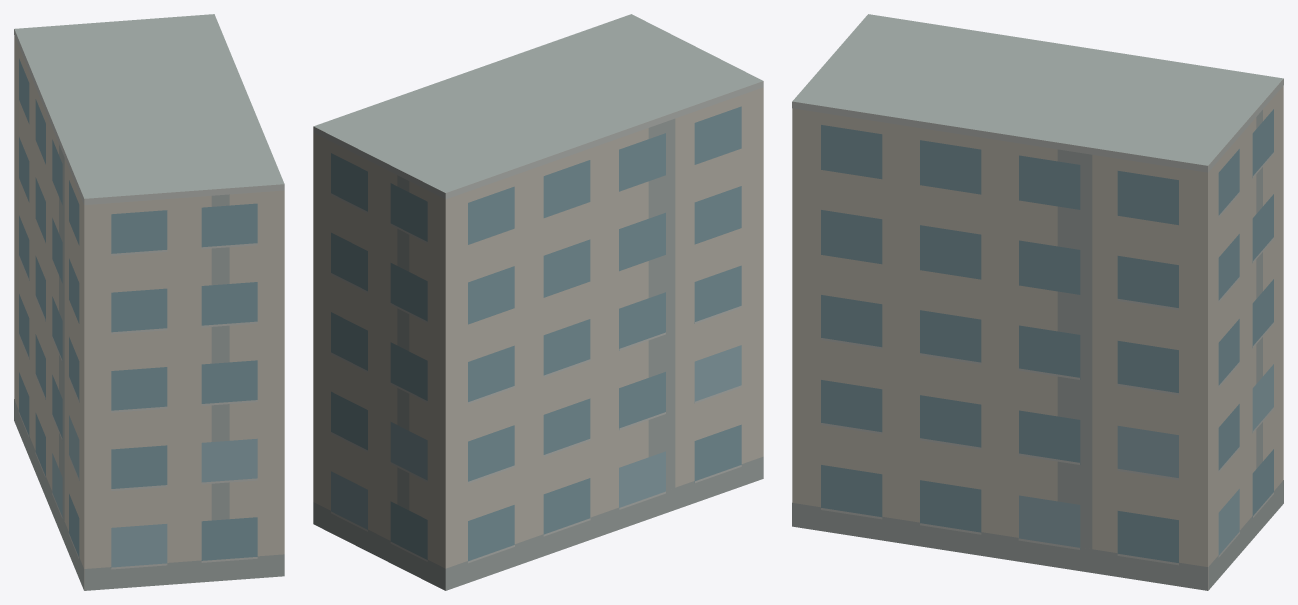
The model's file is residential-c2cb4118-77b7-4207-b367-dd9ce17fa856.glb.
3 renders of one model, left to right at view 1: azimuth 30°, elevation 25°; view 2: azimuth 150°, elevation 25°; view 3: azimuth 270°, elevation 25°, orthographic. The views are drawn at different scales.
Parts seen in each view (by area): view 1: residential-c2cb4118-77b7-4207-b367-dd9ce17fa856.tmp; view 2: residential-c2cb4118-77b7-4207-b367-dd9ce17fa856.tmp; view 3: residential-c2cb4118-77b7-4207-b367-dd9ce17fa856.tmp.
Boxes of the visible parts, <box> form: residential-c2cb4118-77b7-4207-b367-dd9ce17fa856.tmp: <box>14,14,284,590</box>; residential-c2cb4118-77b7-4207-b367-dd9ce17fa856.tmp: <box>313,14,763,590</box>; residential-c2cb4118-77b7-4207-b367-dd9ce17fa856.tmp: <box>792,14,1283,590</box>.
Size of the model in its own units: 11.69 by 15.25 by 16.
